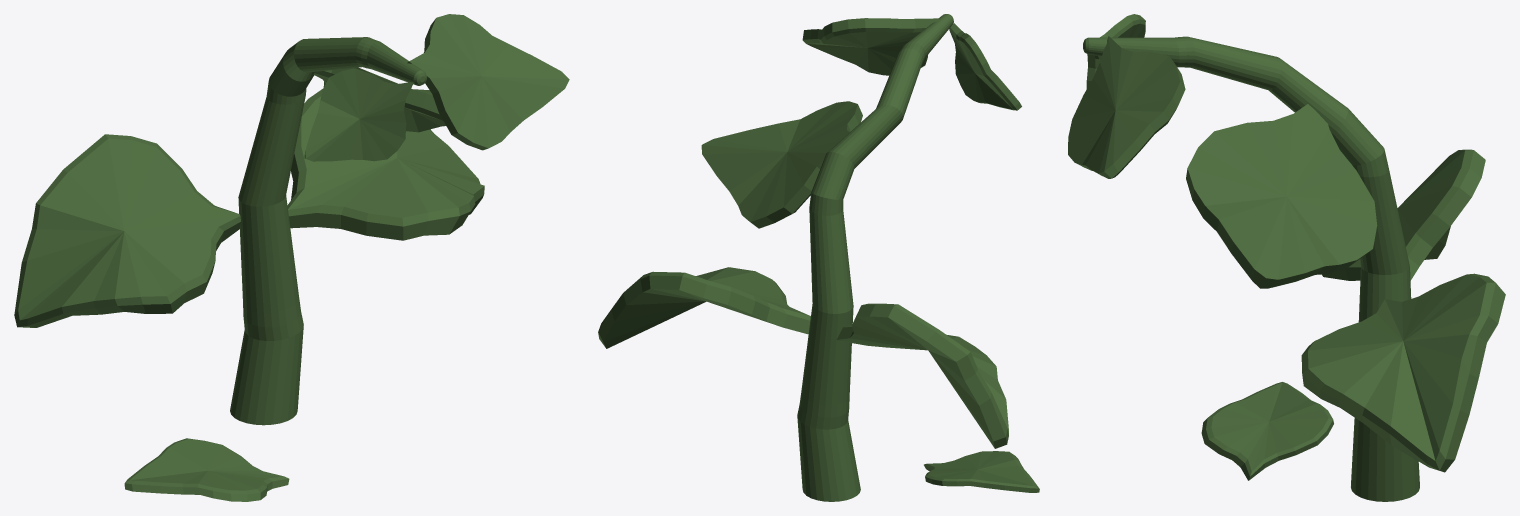
The model's file is PlantaMuerta.fbx.
The picture shows the model from 3 angles, left to right: view 1: azimuth 30°, elevation 25°; view 2: azimuth 150°, elevation 25°; view 3: azimuth 270°, elevation 25°; orthographic projection. The views are drawn at different scales.
Visible parts, largest first — view 1: Cylinder; view 2: Cylinder; view 3: Cylinder.
Part boxes in pixels (bbox=[...]): Cylinder: bbox=[14, 14, 569, 501]; Cylinder: bbox=[598, 14, 1039, 501]; Cylinder: bbox=[1068, 14, 1505, 501].
Bounding box in the file's own units: 321 × 307 × 254.
